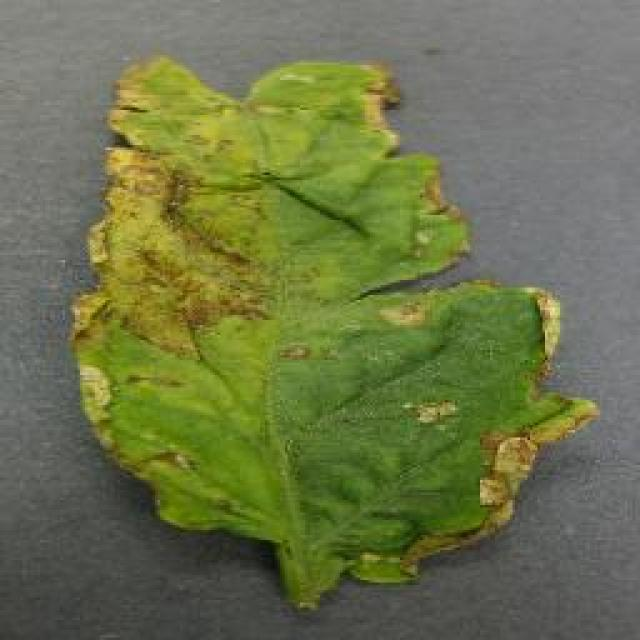Tomato___Bacterial_spot: (70, 56, 607, 617)
